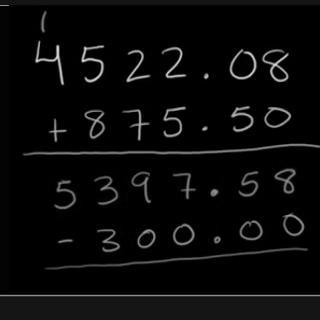.: (198, 65, 212, 82), (208, 186, 220, 202), (209, 233, 222, 247), (199, 121, 210, 134)
0: (225, 44, 258, 84), (263, 101, 293, 135), (278, 212, 307, 237), (170, 222, 196, 249), (237, 218, 266, 242), (132, 225, 158, 251)
2: (120, 47, 152, 84), (157, 45, 189, 82)
3: (90, 173, 122, 207), (94, 225, 122, 254)
4: (27, 37, 66, 87)
5: (77, 38, 108, 88), (227, 102, 258, 137), (159, 105, 189, 140), (51, 179, 80, 212), (236, 167, 260, 199)
7: (120, 107, 150, 142), (169, 168, 197, 201)
8: (262, 43, 292, 86), (80, 108, 110, 142), (272, 165, 300, 199)
9: (130, 169, 156, 205)
